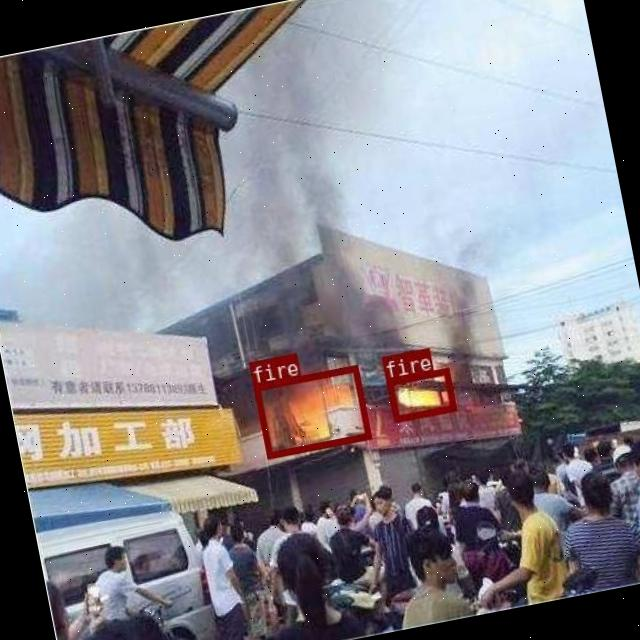fire: (252, 365, 370, 459), (386, 366, 456, 421)
